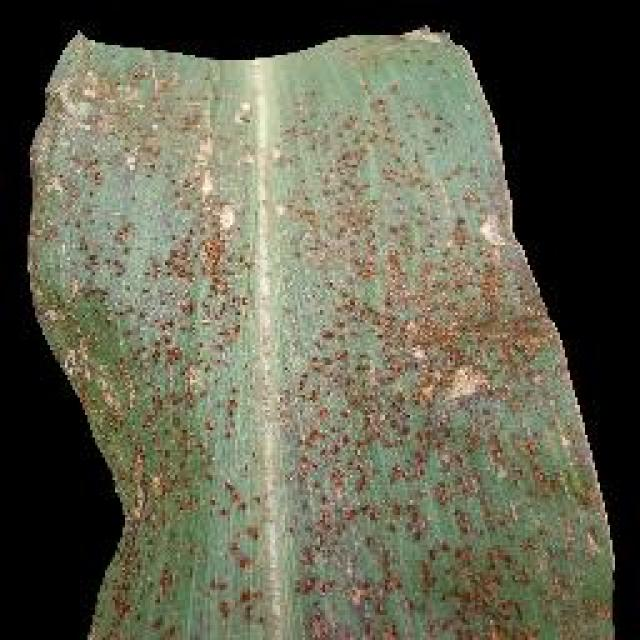Corn___Common_rust: (7, 17, 630, 640)
